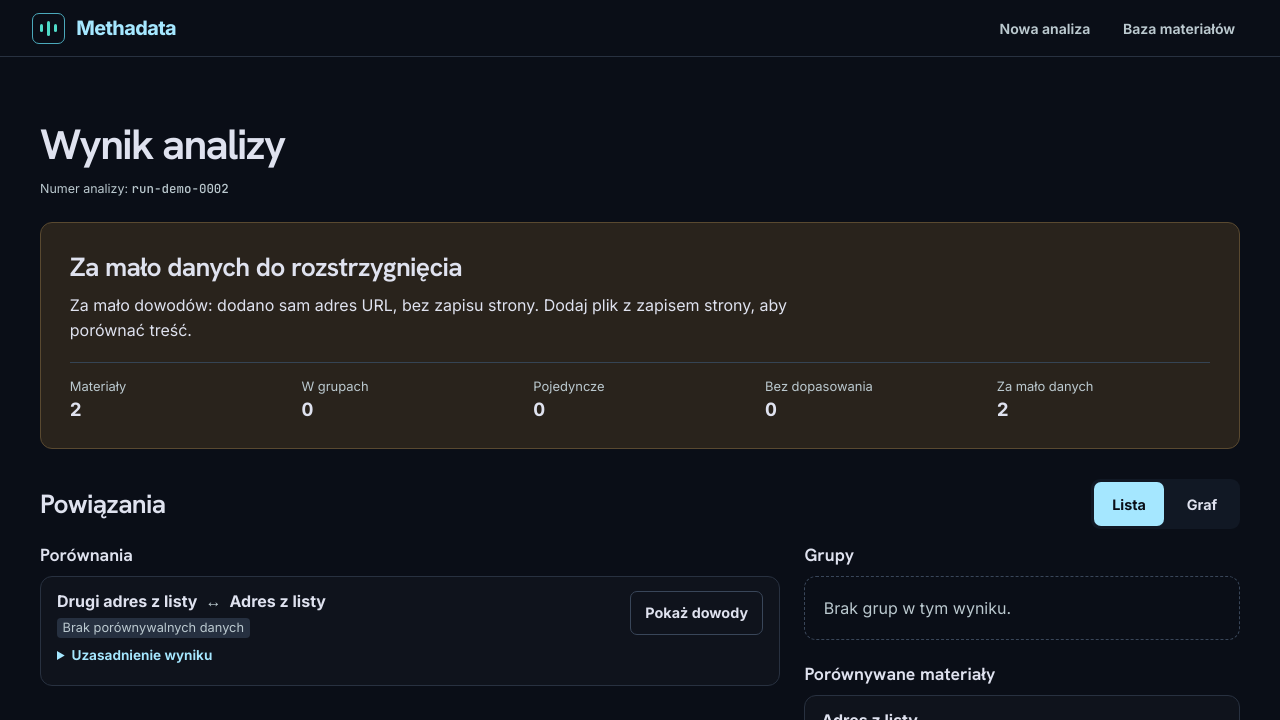
widok przebiegu › niewystarczające dane: komunikat i niedostępny dowód
Check: the heading "Za mało danych do rozstrzygnięcia" is shown, box [70,250,462,284]
Check: the text "Za mało dowodów: dodano sam adres URL" is shown, box [70,295,787,340]
Step 1. Click the button "Pokaż dowody" → (697, 613), box [630,591,763,635]
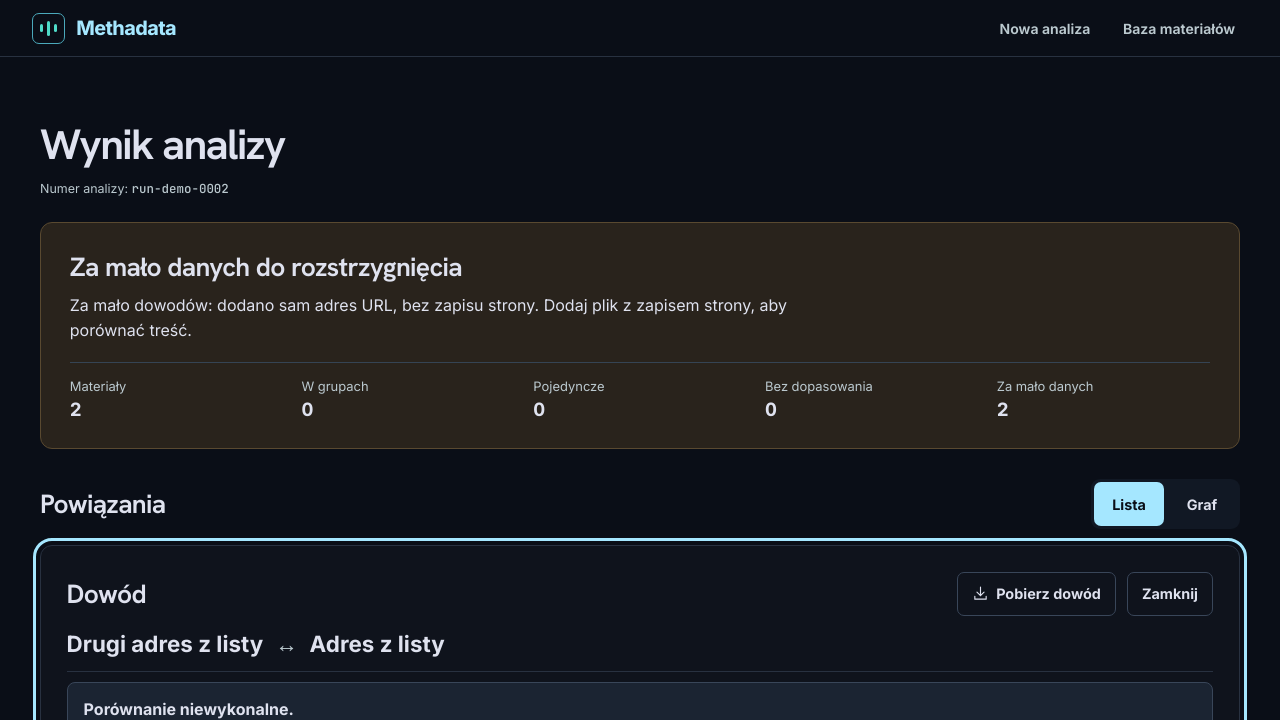
Check: the text "Porównanie niewykonalne." is shown, box [84,699,294,719]
